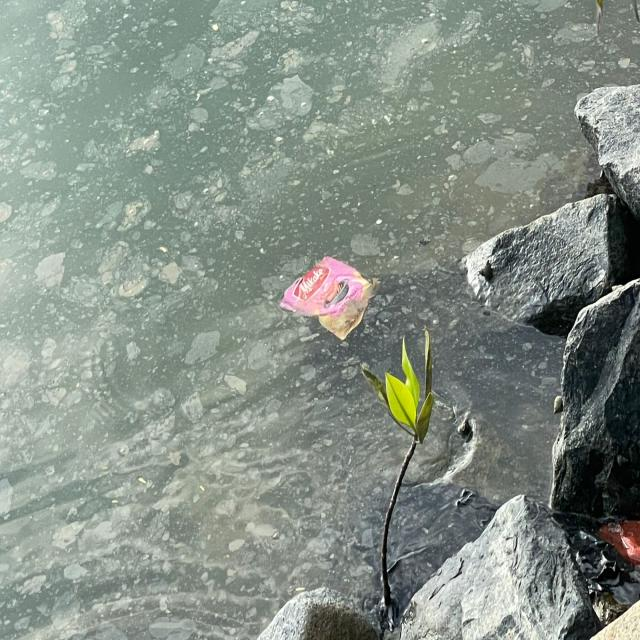Bungkus Makanan: (278, 247, 376, 355)
